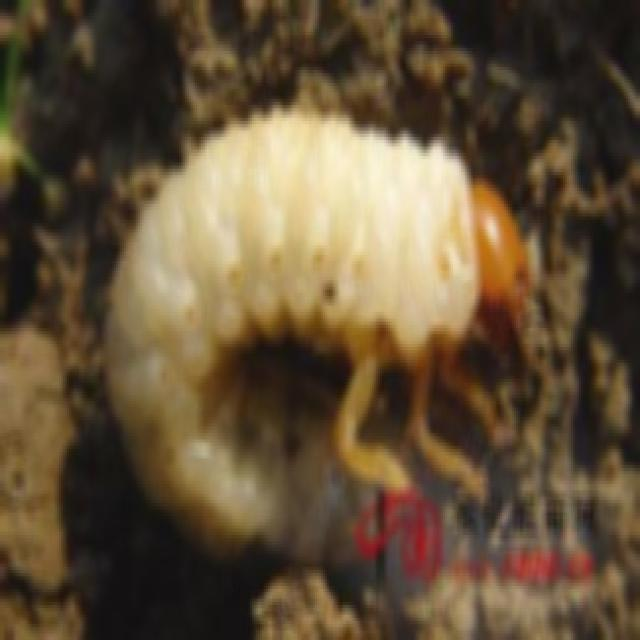grub: (102, 116, 530, 574)
